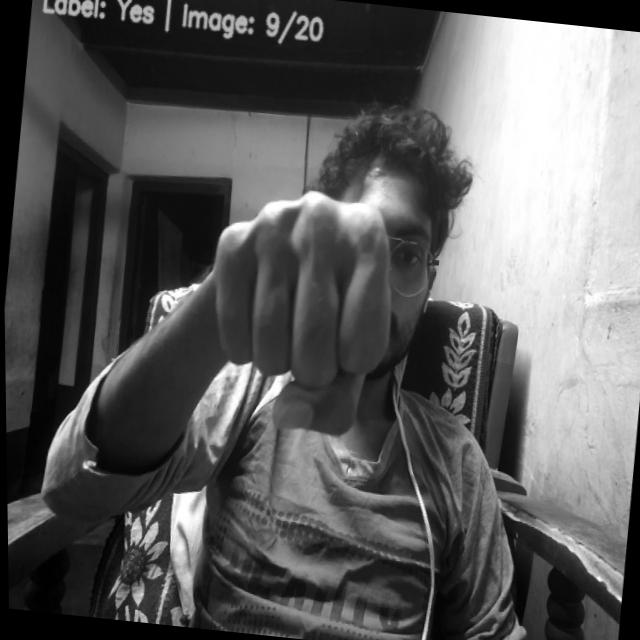Yes: (202, 179, 413, 447)
